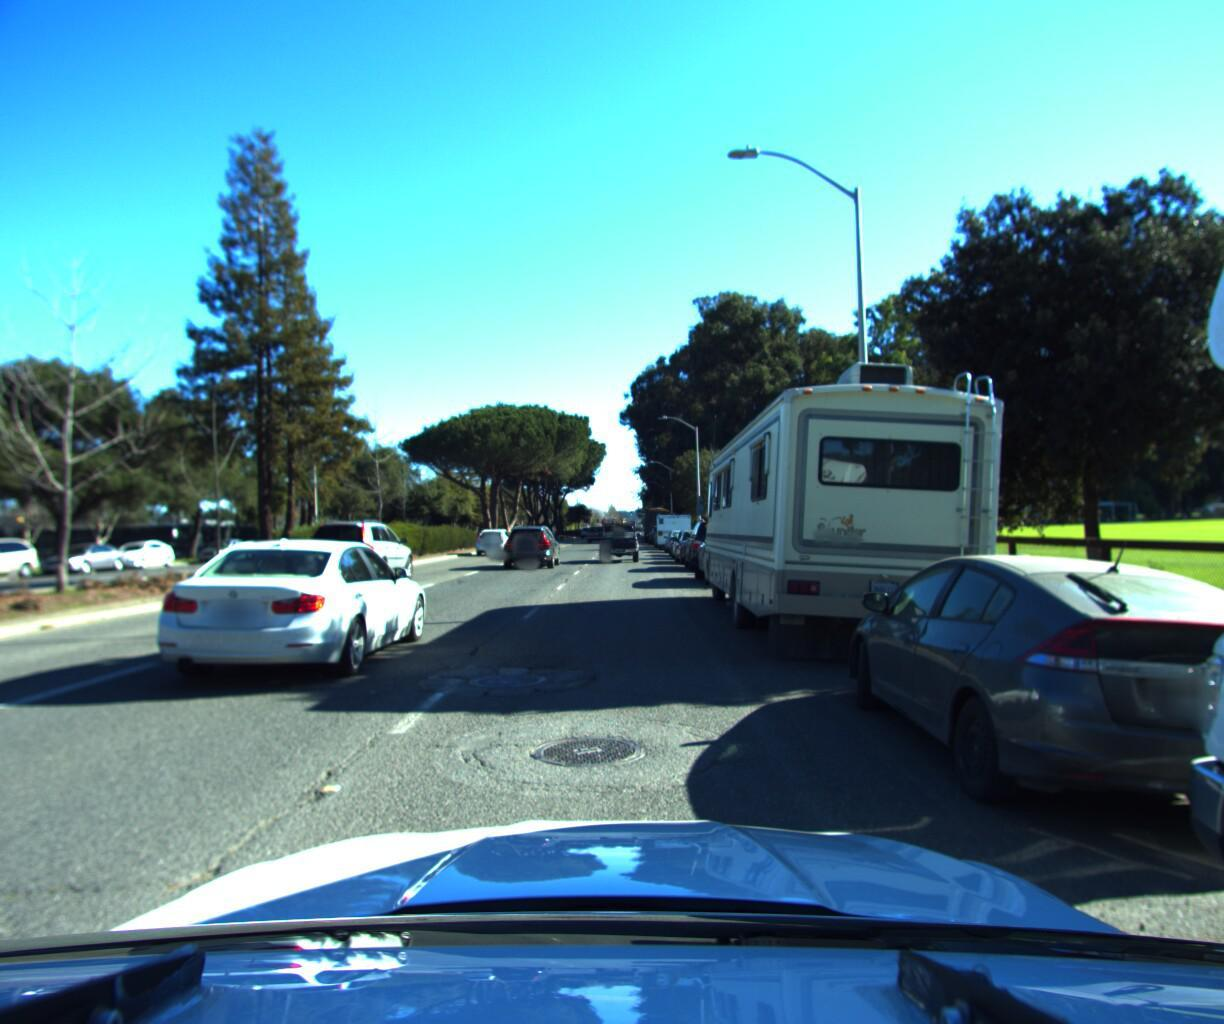bus: (637, 502, 670, 534)
car: (834, 529, 1224, 858), (137, 513, 432, 682), (298, 509, 420, 586), (692, 513, 776, 580), (33, 542, 132, 579), (680, 511, 744, 566), (501, 522, 561, 568), (101, 537, 179, 573), (591, 505, 642, 557), (0, 535, 44, 588), (670, 522, 721, 561), (469, 523, 517, 555), (667, 520, 710, 556), (198, 541, 252, 564), (587, 522, 609, 541)
other_vehicle: (689, 349, 1043, 670), (651, 502, 700, 548)
